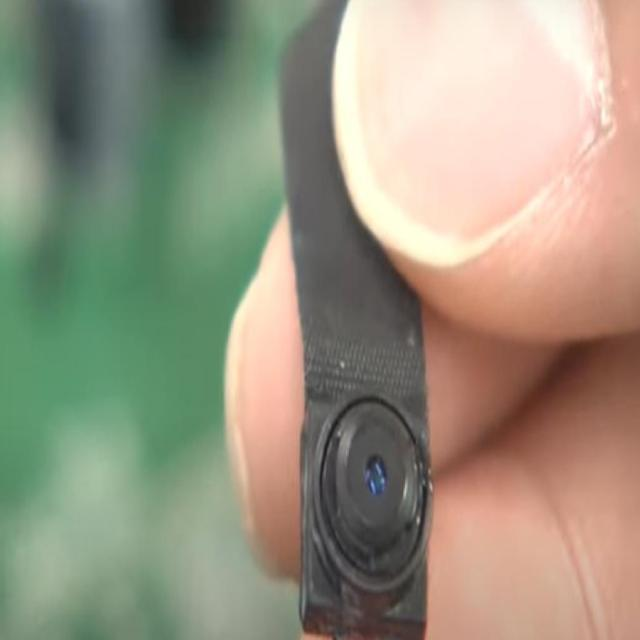hidden camera: (361, 447, 390, 506)
